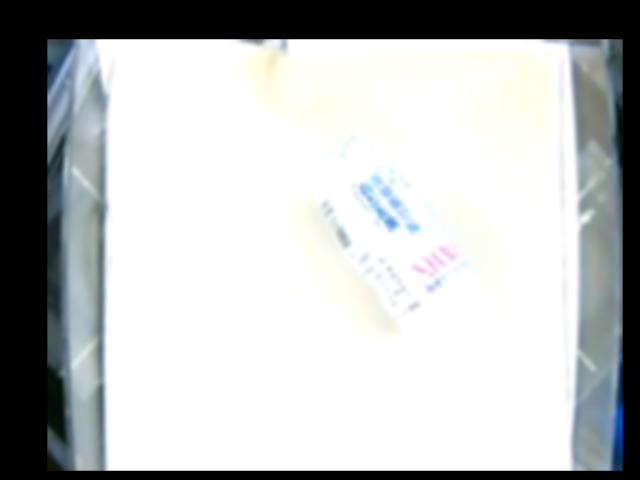Bottle: (306, 137, 479, 334)
